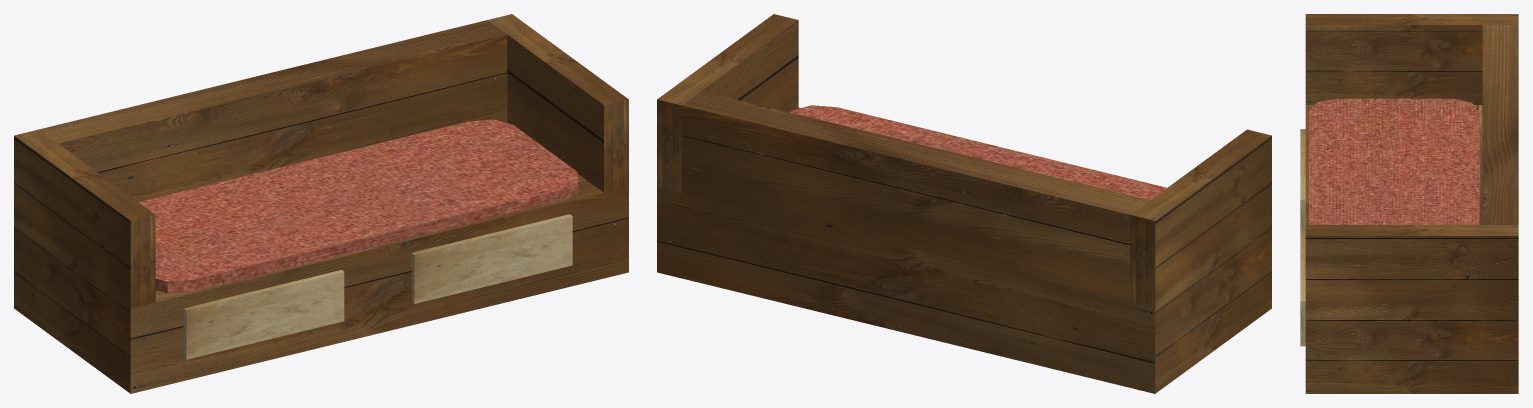
File: sofa swam.fbx
The picture shows the model from 3 angles, left to right: view 1: azimuth 30°, elevation 25°; view 2: azimuth 150°, elevation 25°; view 3: azimuth 270°, elevation 25°; orthographic projection. The views are drawn at different scales.
Parts seen in each view (by area): view 1: pCube431, pCube434, pCube432, pCube433; view 2: pCube431, pCube434; view 3: pCube431, pCube434, pCube433, pCube432.
Boxes of the visible parts, left/top/right/bottom form: pCube431: left=14, top=14, right=628, bottom=393; pCube434: left=138, top=119, right=578, bottom=293; pCube432: left=183, top=270, right=344, bottom=359; pCube433: left=411, top=214, right=572, bottom=303; pCube431: left=657, top=14, right=1271, bottom=393; pCube434: left=790, top=105, right=1166, bottom=200; pCube431: left=1305, top=14, right=1518, bottom=393; pCube434: left=1309, top=98, right=1479, bottom=224; pCube433: left=1300, top=230, right=1305, bottom=346; pCube432: left=1300, top=129, right=1305, bottom=230.
Size of the model in its own units: 12.52 by 4.16 by 5.2.
